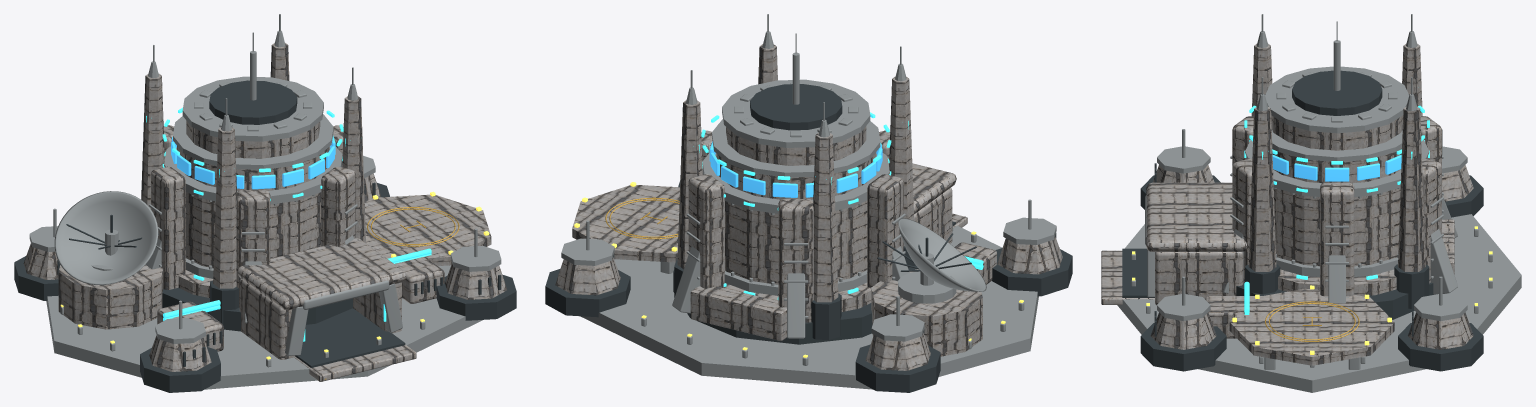
File: castle.glb
3 views of the same model, side by side, from view 1: azimuth 30°, elevation 25°; view 2: azimuth 150°, elevation 25°; view 3: azimuth 270°, elevation 25° (orthographic). The views are drawn at different scales.
Parts seen in each view (by area): view 1: Weathered fortress armor, Titanium frames, Deep gunmetal, Blue command glazing, Reactor blue, Safety markings; view 2: Weathered fortress armor, Titanium frames, Deep gunmetal, Blue command glazing, Reactor blue, Safety markings; view 3: Weathered fortress armor, Titanium frames, Deep gunmetal, Blue command glazing, Reactor blue, Safety markings.
Boxes of the visible parts, box(x1,y1,x2,y2) form: Weathered fortress armor: box(23, 43, 506, 381); Titanium frames: box(29, 14, 501, 389); Deep gunmetal: box(14, 80, 516, 392); Blue command glazing: box(171, 135, 335, 189); Reactor blue: box(146, 107, 431, 341); Safety markings: box(324, 207, 459, 379); Weathered fortress armor: box(555, 44, 1062, 370); Titanium frames: box(561, 14, 1056, 389); Deep gunmetal: box(545, 84, 1072, 392); Blue command glazing: box(709, 141, 882, 197); Reactor blue: box(693, 112, 983, 299); Safety markings: box(605, 197, 679, 239); Weathered fortress armor: box(1101, 43, 1473, 365); Titanium frames: box(1117, 14, 1521, 392); Deep gunmetal: box(1122, 70, 1483, 371); Blue command glazing: box(1272, 154, 1401, 181); Reactor blue: box(1244, 105, 1429, 314); Safety markings: box(1265, 301, 1359, 341).
Size of the model in its own units: 13.2 by 7.65 by 10.96.
7 materials, 1 textured.
